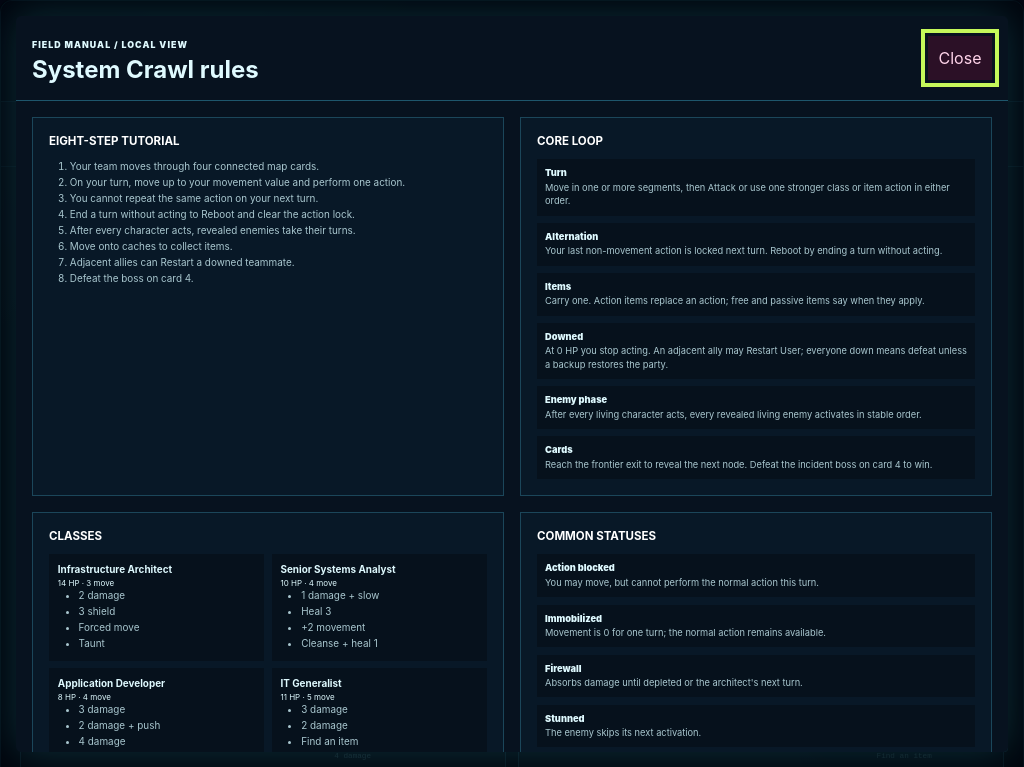
Test: final System Crawl interface › shows an accessible first-time tutorial and keeps Rules permanently available
The width and height of the screenshot is (1024, 767).
Step 1. Click the button "Close" → (960, 58), box x1=928 y1=36 x2=992 y2=80
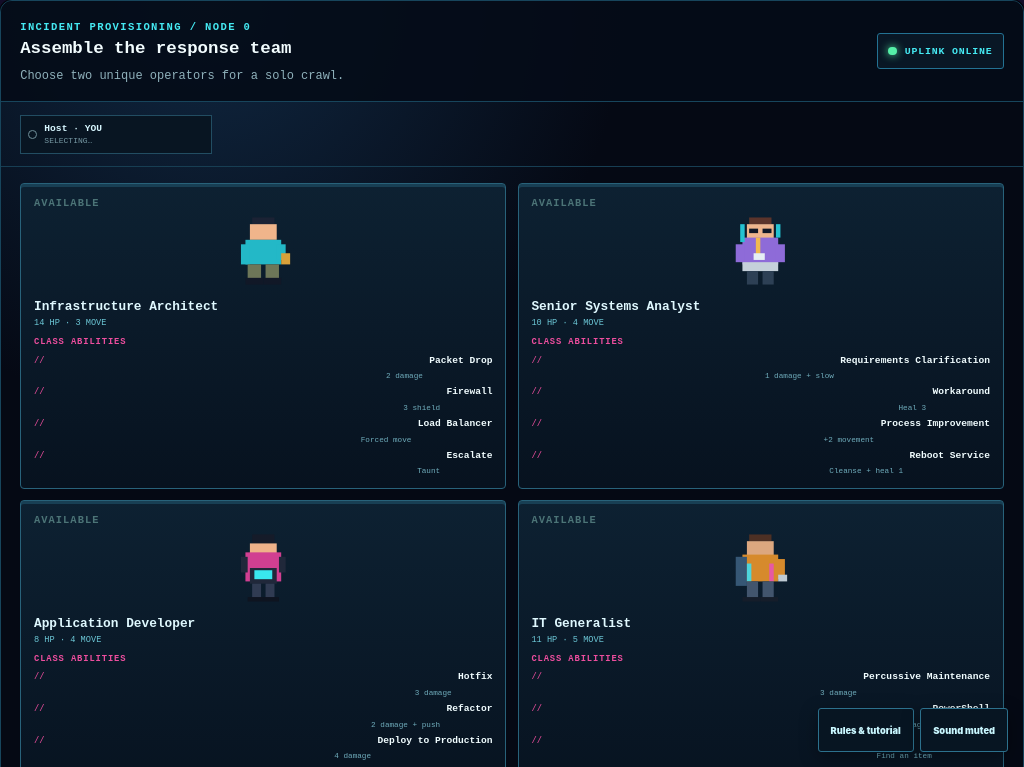
Check: the dialog is gone
Step 2. Click the button "Rules & tutorial" → (866, 730), box x1=818 y1=708 x2=914 y2=752
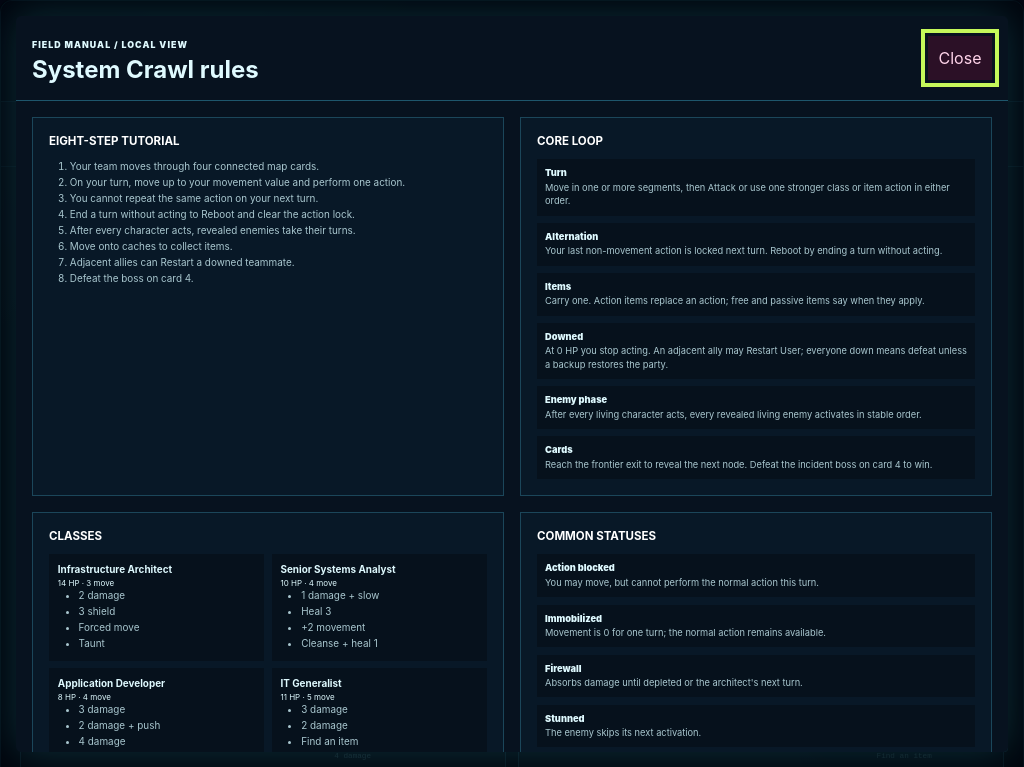
Check: the dialog "System Crawl rules" is shown
Step 3. Press Escape
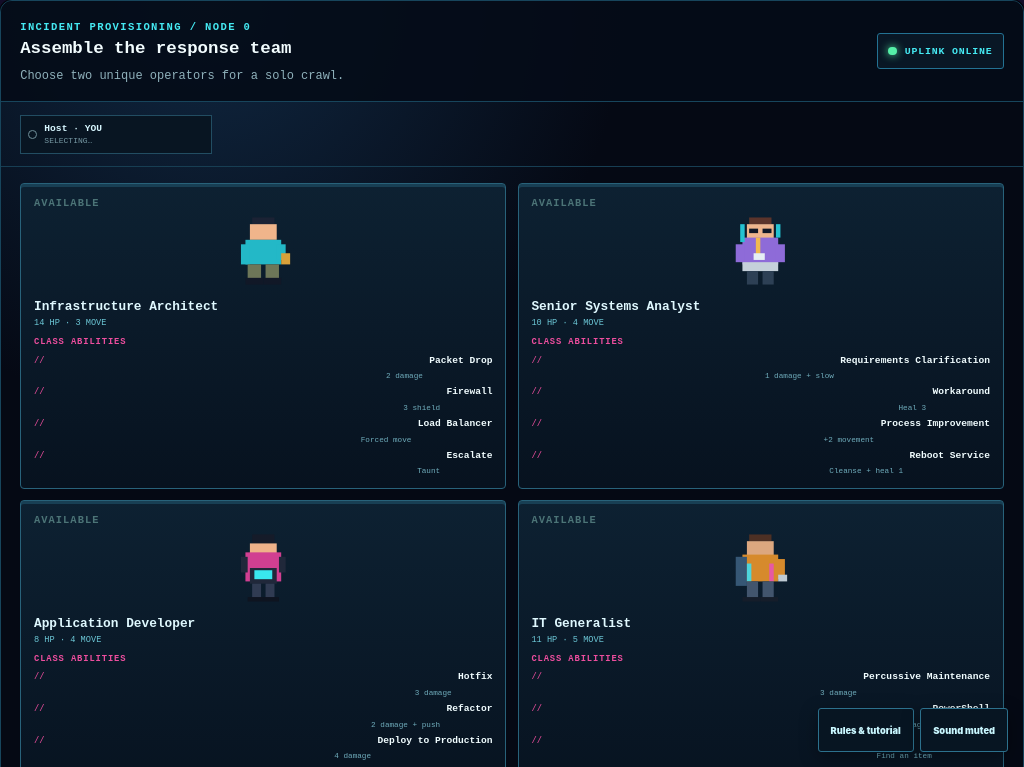
Check: the dialog is gone
